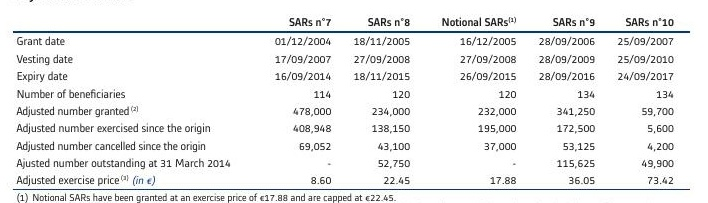table: (0, 0, 708, 203)
